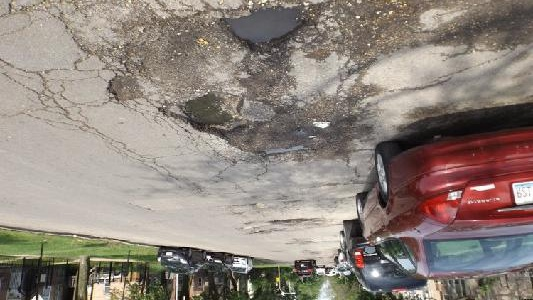pothole: (156, 89, 255, 141), (217, 5, 313, 52), (105, 75, 147, 103), (269, 217, 311, 226), (309, 117, 333, 130)
